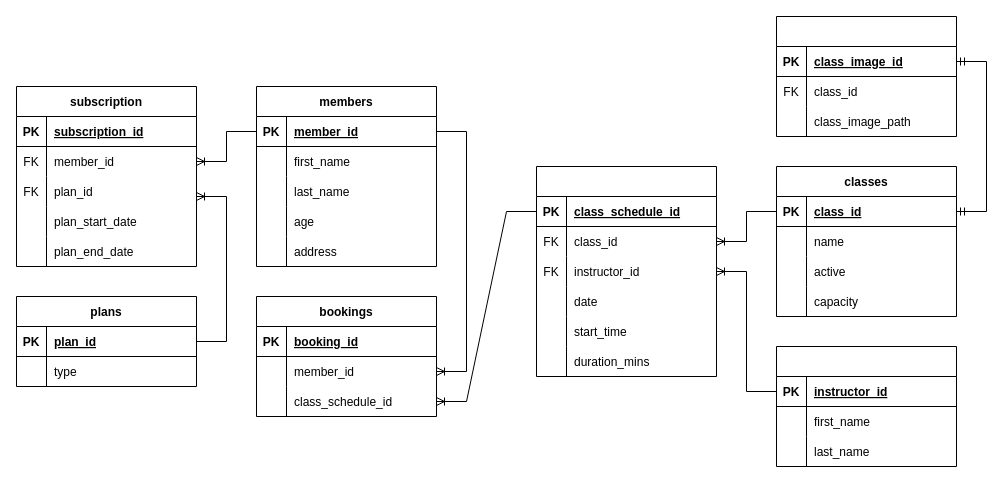
Image size: 1003x483. Some labels were removed from this diagram. The box of each missing label's shape, as (x1, y1, x2, y2) in pixels:
class_images: (776, 16, 956, 136)
class_schedules: (536, 166, 716, 376)
instructors: (776, 346, 956, 466)
